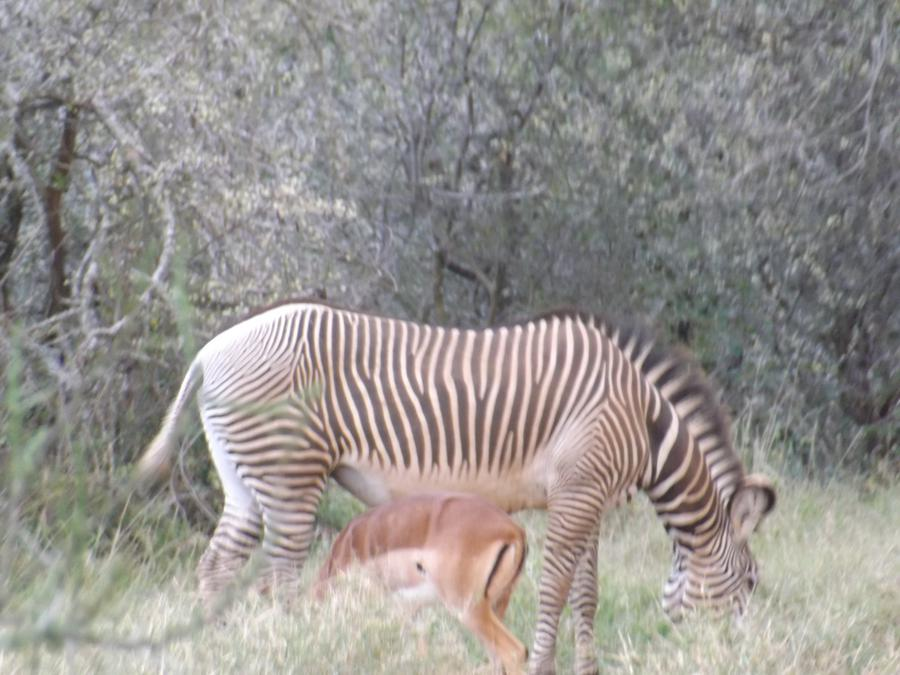zebra_grevys: (168, 279, 613, 509)
